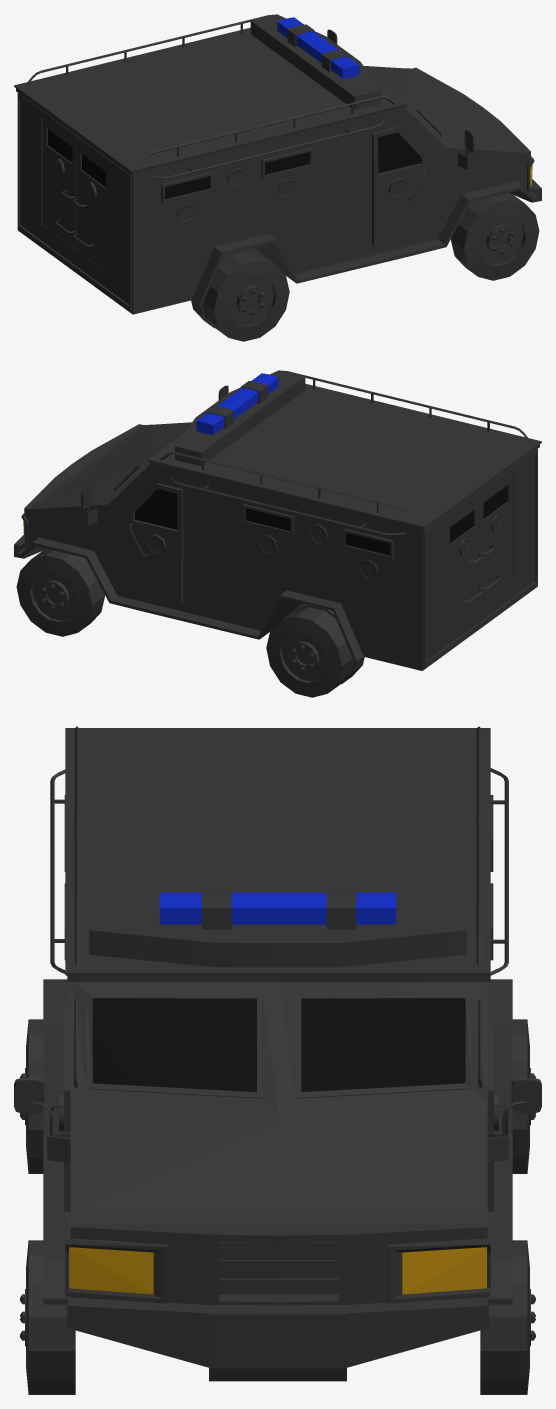
The model's file is SM_swat_vehicle.fbx.
3 renders of one model, top to bottom at view 1: azimuth 30°, elevation 25°; view 2: azimuth 150°, elevation 25°; view 3: azimuth 270°, elevation 25°, orthographic. The views are drawn at different scales.
Parts seen in each view (by area): view 1: Object32259; view 2: Object32259; view 3: Object32259.
Part boxes in pixels (x1,y1,x2,y2): Object32259: (14, 14, 541, 341); Object32259: (14, 370, 541, 697); Object32259: (14, 726, 541, 1394).
Bounding box in the file's own units: 231 × 112 × 138.
